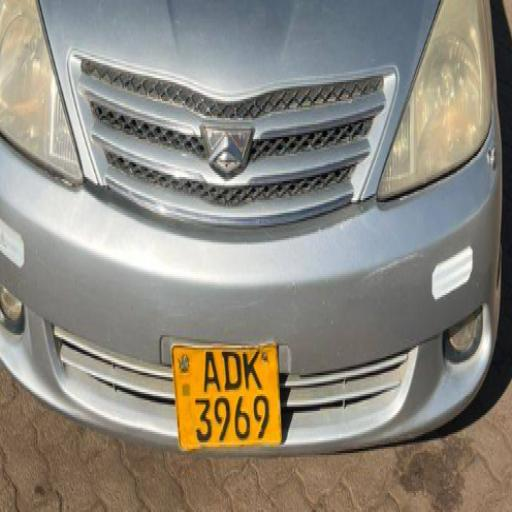number-plates: (174, 340, 272, 447)
